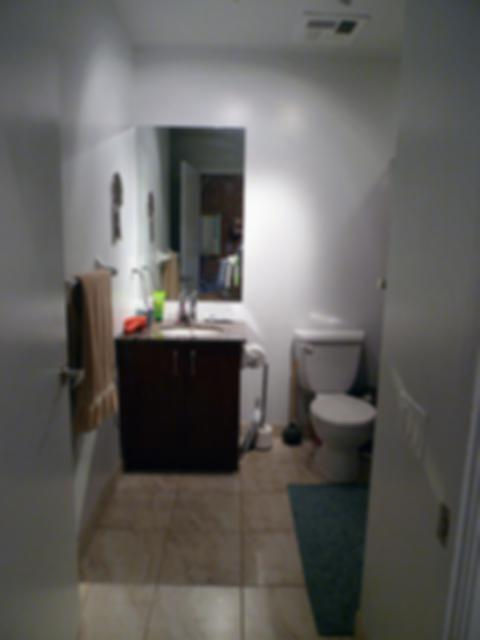Lavamanos: (149, 290, 234, 341)
